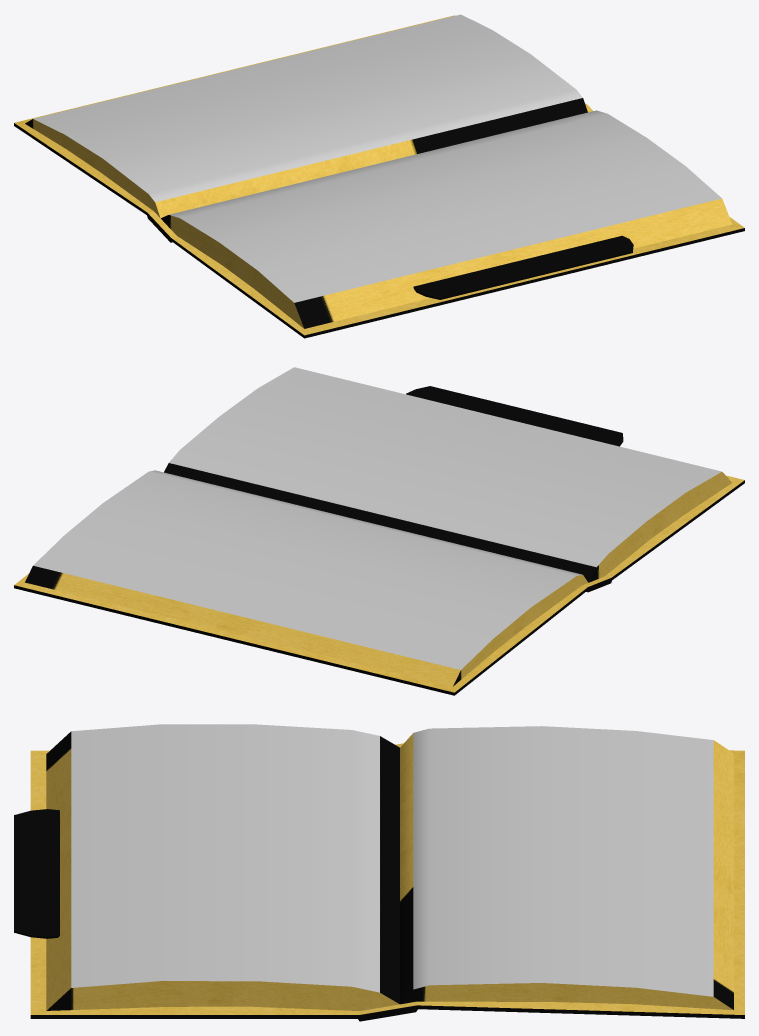
File: EmployBook.fbx
3 views of the same model, one above another, from view 1: azimuth 30°, elevation 25°; view 2: azimuth 150°, elevation 25°; view 3: azimuth 270°, elevation 25° (orthographic). The views are drawn at different scales.
Visible parts, largest first — view 1: o_GPC_EmployeeManual; view 2: o_GPC_EmployeeManual; view 3: o_GPC_EmployeeManual.
Part boxes in pixels (left/top/right/bottom): o_GPC_EmployeeManual: left=14, top=14, right=744, bottom=338; o_GPC_EmployeeManual: left=14, top=367, right=744, bottom=695; o_GPC_EmployeeManual: left=14, top=724, right=744, bottom=1021.
Size of the model in its own units: 41.59 by 2.7 by 48.61.
